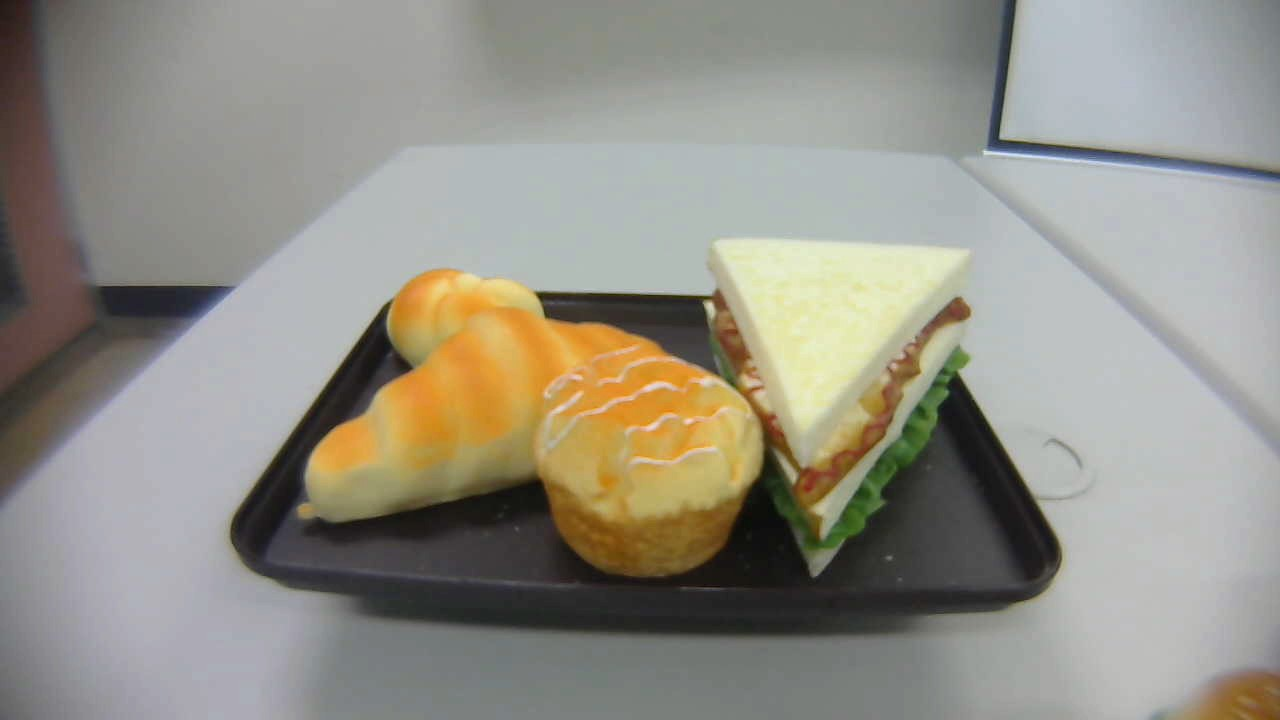croissant: (301, 308, 683, 530)
cupcake: (539, 344, 765, 581)
sandwich: (704, 233, 973, 582)
twist bread: (387, 269, 546, 370)
